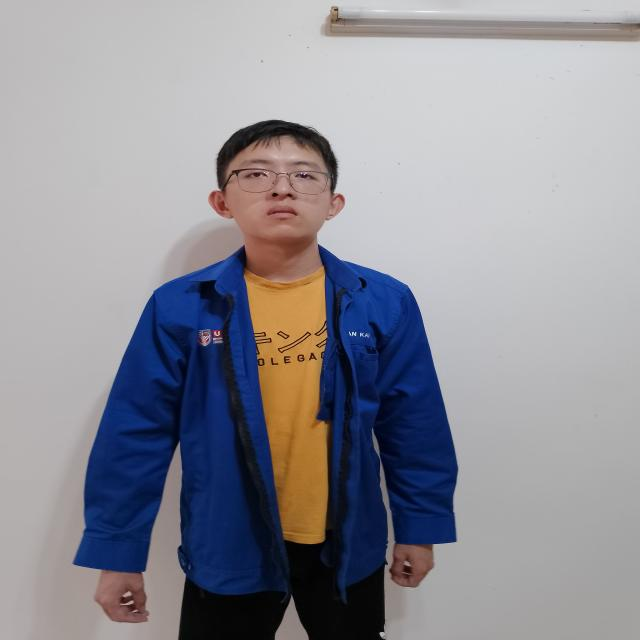person_with_labcoat: (74, 121, 456, 640)
